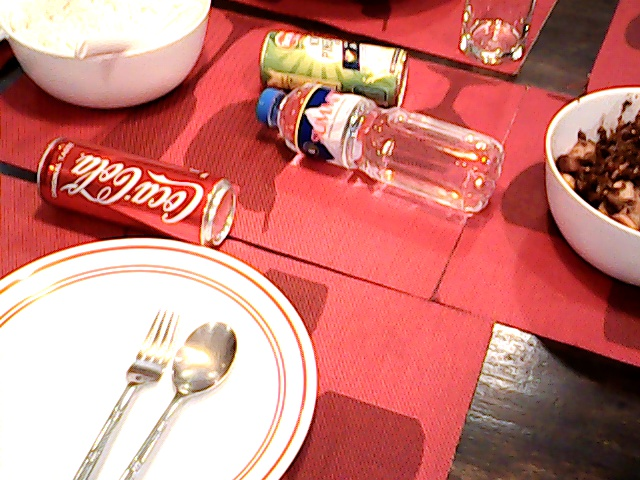Cola: (33, 126, 225, 236)
Pine Juice: (257, 12, 412, 92)
Summit Water: (273, 85, 501, 197)
